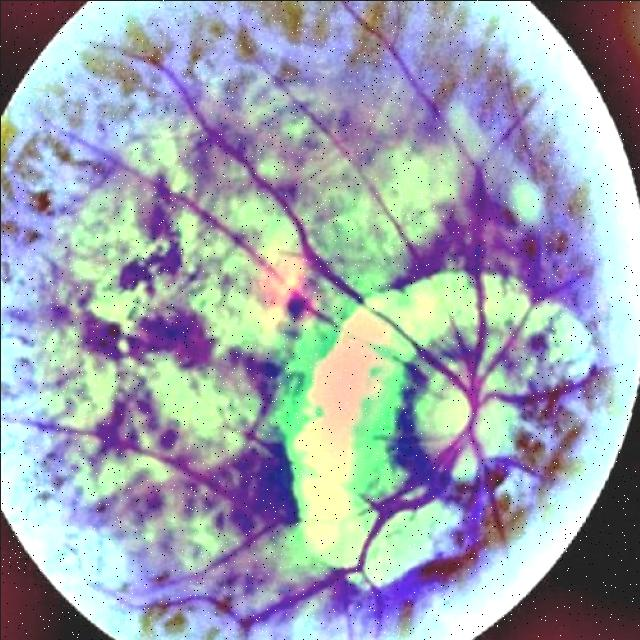Nerves: (365, 364, 447, 518), (270, 189, 362, 303), (346, 497, 431, 573)
Optic Disk: (270, 306, 413, 570), (366, 273, 475, 346), (411, 371, 466, 442), (524, 305, 589, 364), (483, 274, 527, 330), (476, 399, 517, 456), (452, 447, 475, 480)
